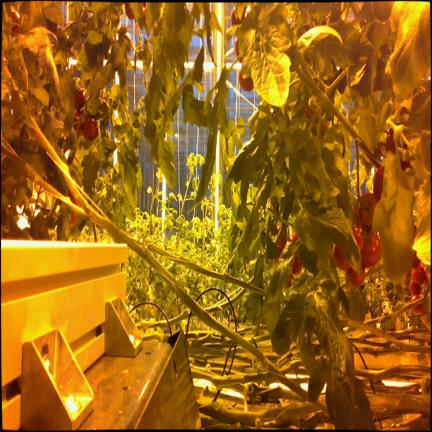MainStem: (21, 97, 330, 416), (298, 65, 383, 166), (143, 242, 267, 295)
tomato: (235, 39, 253, 91), (73, 109, 98, 141), (361, 233, 380, 267), (359, 193, 376, 231), (333, 244, 349, 270), (373, 166, 384, 201), (347, 267, 365, 286), (83, 118, 98, 140), (411, 263, 426, 285), (239, 70, 253, 91), (74, 86, 86, 109), (353, 224, 363, 251), (292, 251, 302, 275), (386, 128, 395, 154), (412, 295, 424, 314), (409, 279, 420, 296), (277, 233, 287, 251), (231, 8, 241, 25), (125, 2, 134, 18), (286, 274, 293, 288), (289, 232, 297, 242)
